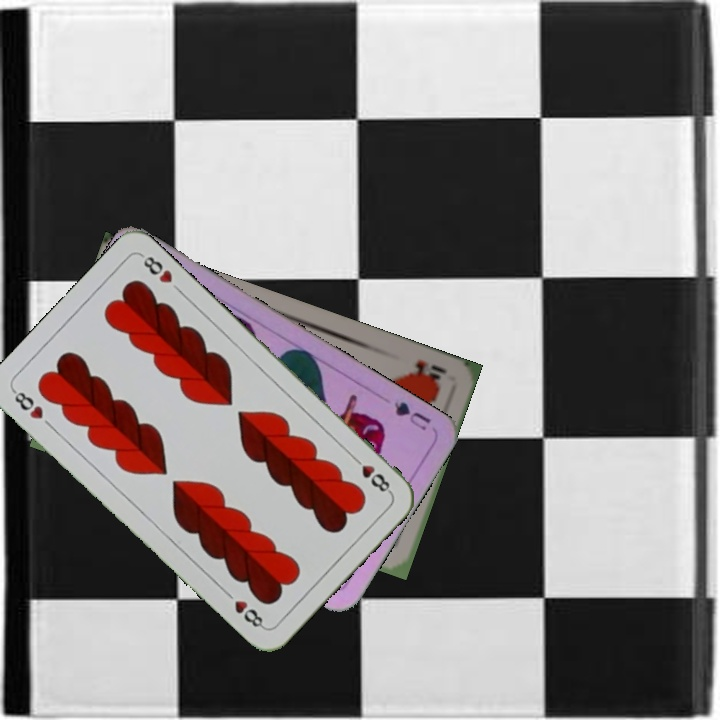GU: (389, 397, 434, 433)
H8: (346, 451, 394, 496), (9, 385, 46, 422)
HO: (405, 356, 449, 383)
